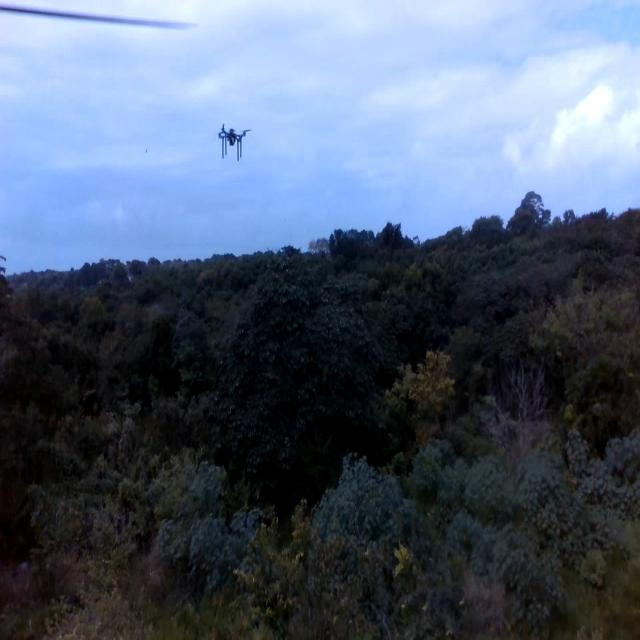-uav-: (212, 116, 250, 170)
